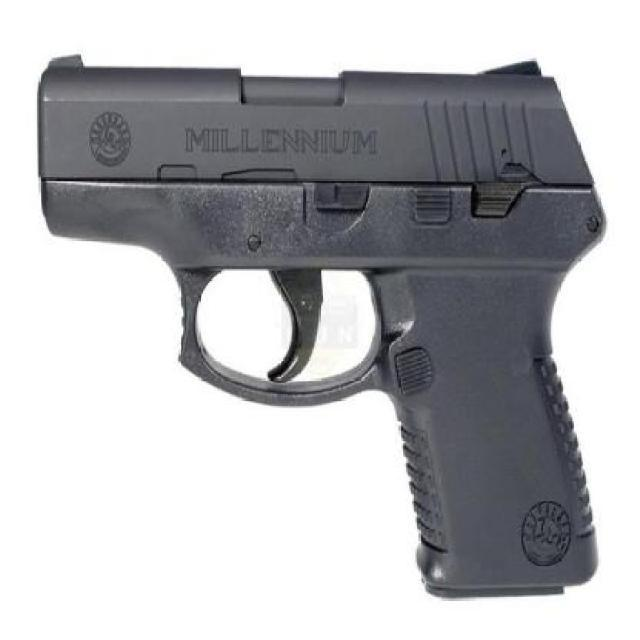gun: (39, 47, 604, 604)
